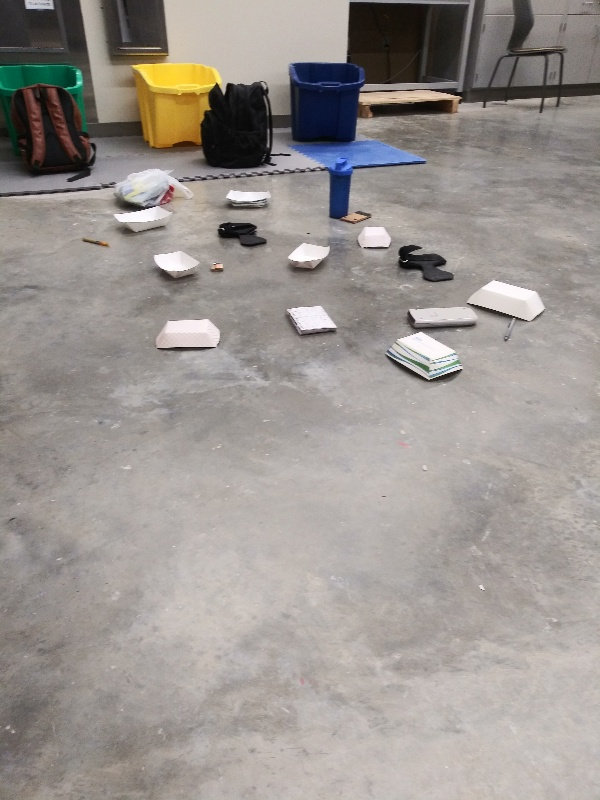plate: (380, 328, 467, 384), (465, 278, 549, 327), (155, 313, 223, 351), (111, 201, 177, 236), (149, 248, 202, 281), (284, 238, 335, 271), (220, 185, 278, 212), (353, 224, 395, 250)
